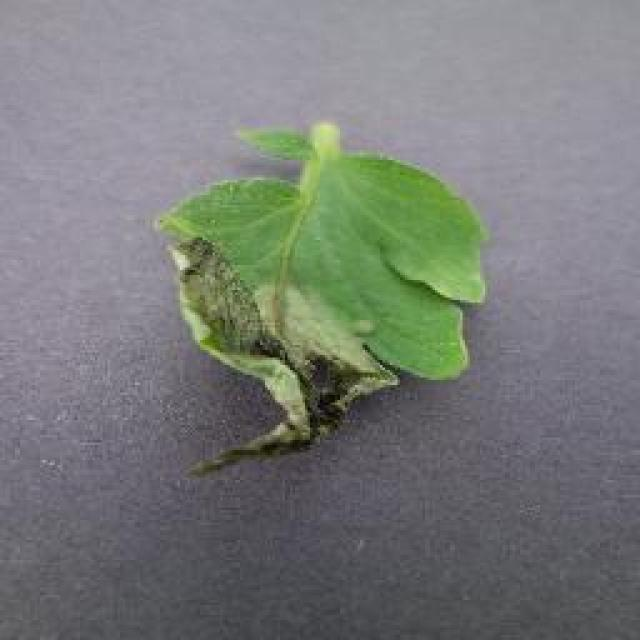Tomato Late Blight: (134, 232, 424, 483)
